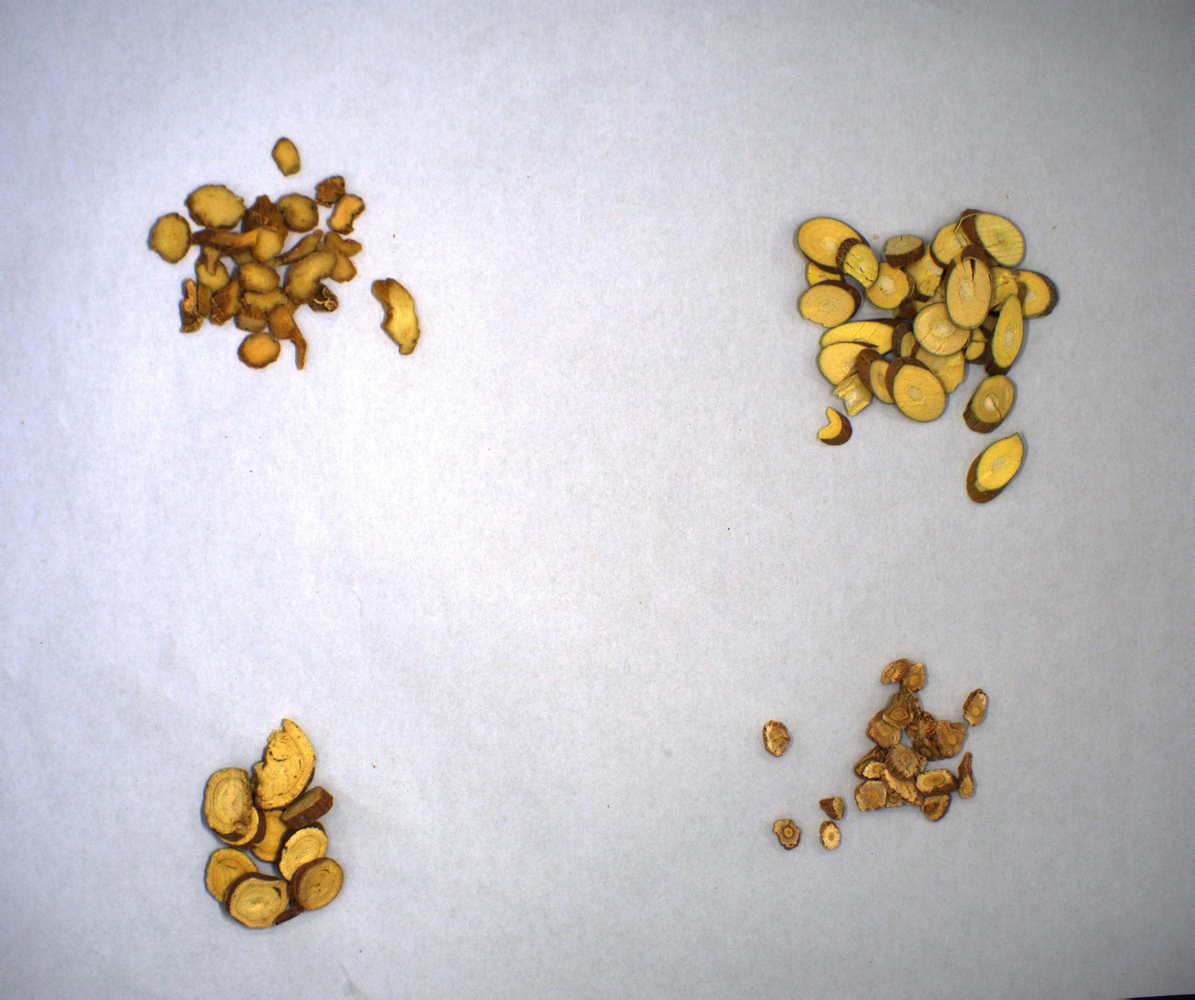baishao: (761, 172, 1121, 570)
banlangen: (717, 619, 1041, 880)
gancaopian: (164, 687, 390, 948)
yuzhu: (111, 125, 473, 396)
